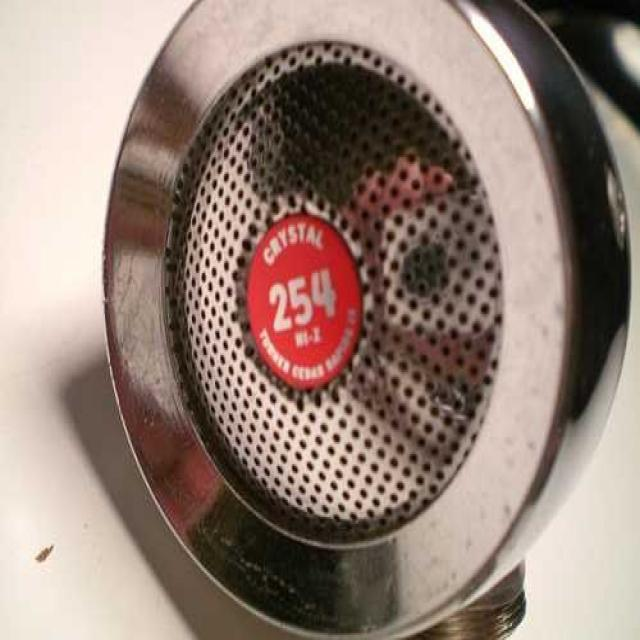microphone: (102, 0, 632, 631)
